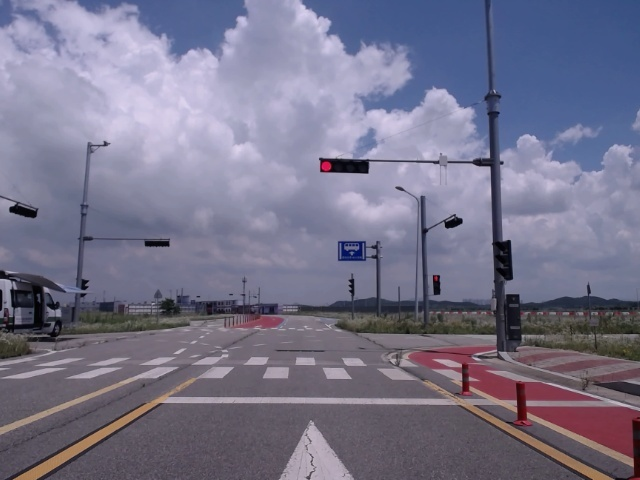red_4: (320, 160, 368, 174)
